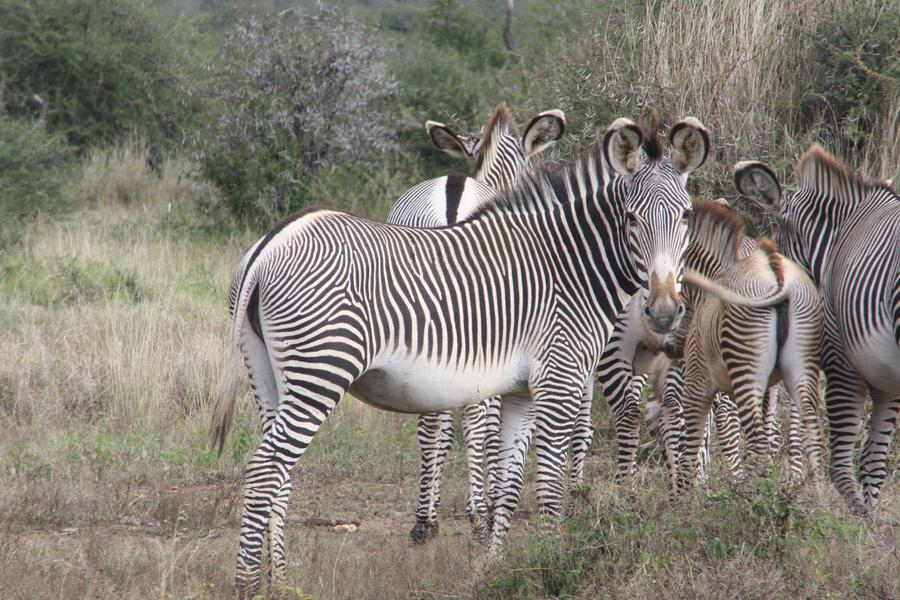zebra_grevys: (246, 196, 588, 376)
